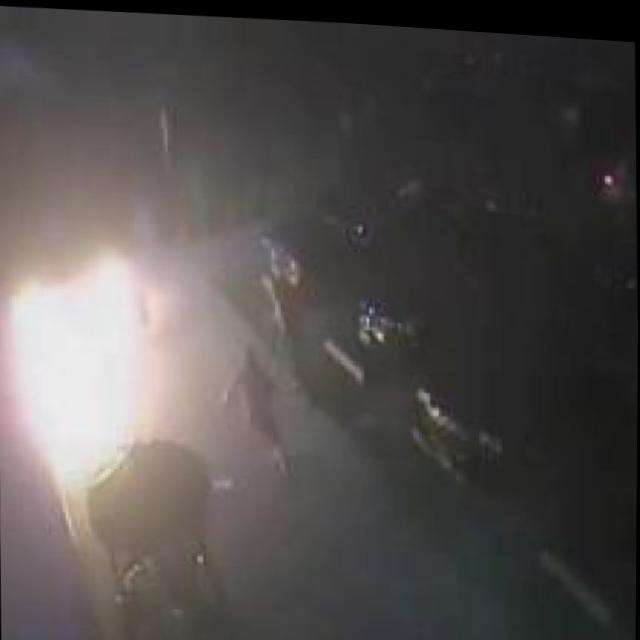fire: (0, 234, 187, 487)
